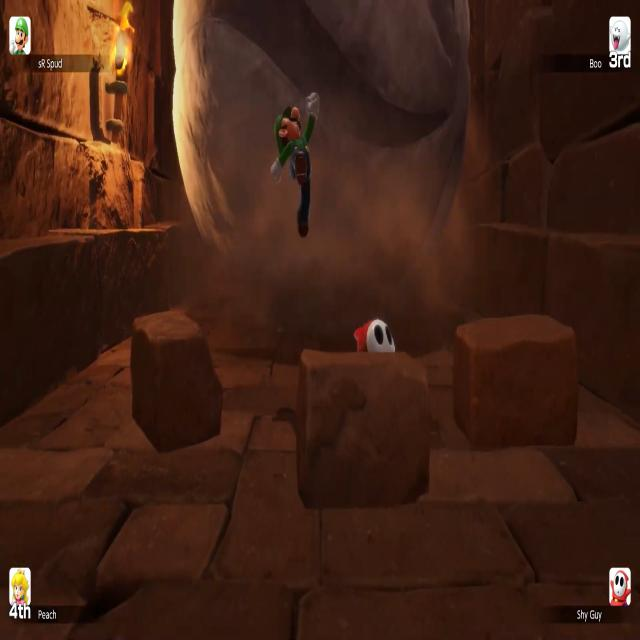Luigi: (269, 88, 322, 240)
Shy Guy: (353, 319, 396, 353)
obstacle: (298, 348, 432, 506), (452, 313, 580, 447), (130, 306, 222, 453)
rolling stone: (173, 0, 471, 341)
